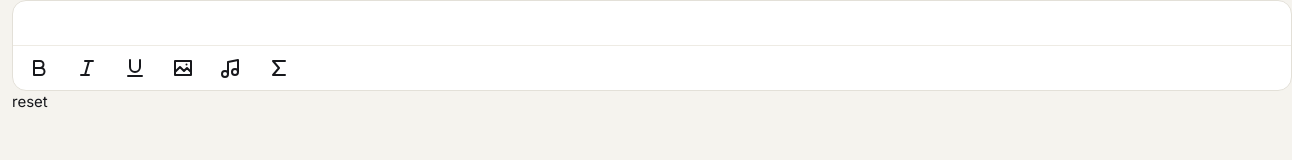
Scenario: FieldEditor › reports entered text as field HTML
Click the field named "Frente": x=652, y=23 [13,1,1291,45]
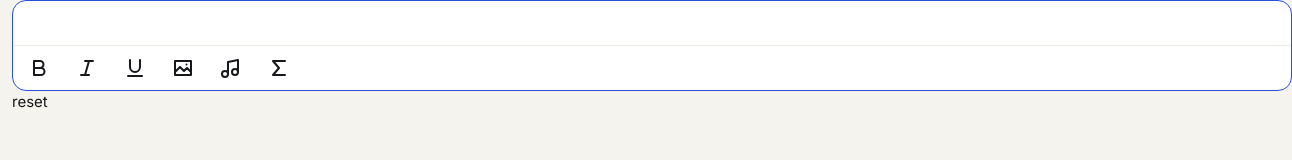
Type keys "cat"
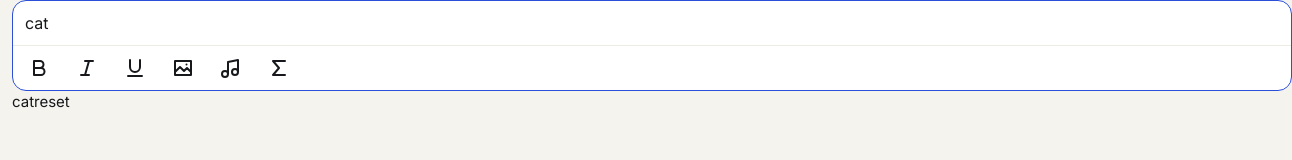
Expected: the text box labelled "cat" is shown, [25,13,48,33]
